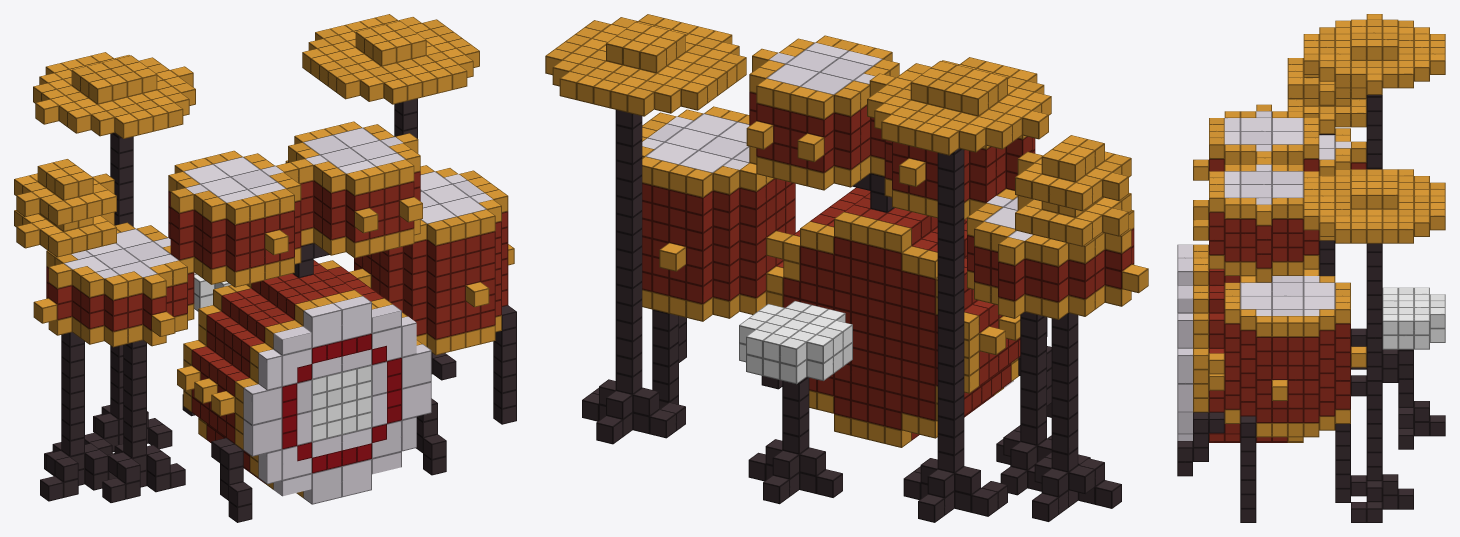
The model's file is drum_kit.glb.
The picture shows the model from 3 angles, left to right: view 1: azimuth 30°, elevation 25°; view 2: azimuth 150°, elevation 25°; view 3: azimuth 270°, elevation 25°; orthographic projection. The views are drawn at different scales.
Parts seen in each view (by area): view 1: drum_kit; view 2: drum_kit; view 3: drum_kit.
Part boxes in pixels (x1=…): drum_kit: x1=14, y1=14, x2=516, y2=522; drum_kit: x1=545, y1=14, x2=1148, y2=522; drum_kit: x1=1177, y1=14, x2=1445, y2=522.
Bounding box in the file's own units: 1.55 × 1.2 × 0.85.
Materials: 7 (7 with a texture image).
